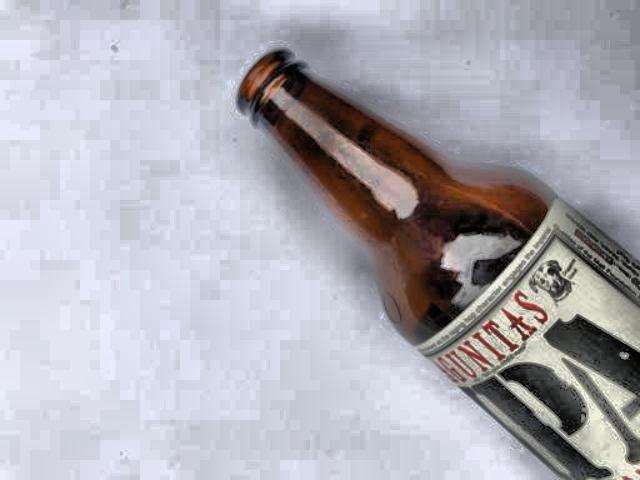Bottles: (227, 29, 640, 480)
